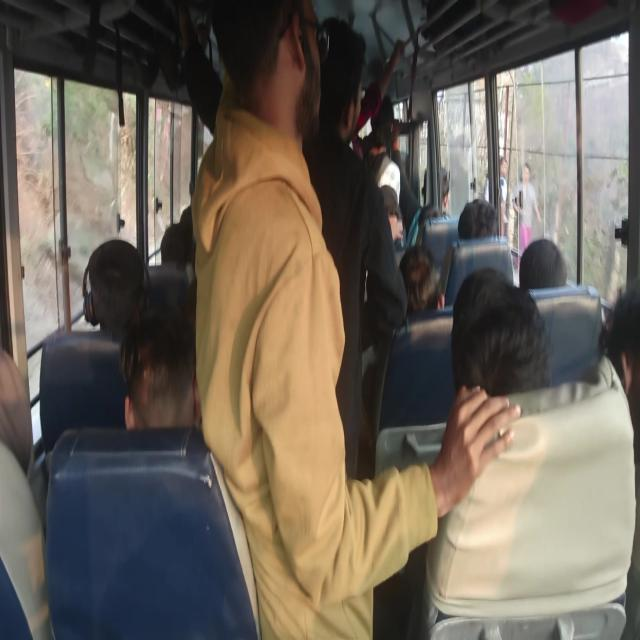person: (223, 0, 339, 156), (460, 289, 566, 450), (132, 308, 210, 436), (314, 12, 367, 154), (604, 303, 640, 500), (0, 354, 59, 452), (92, 249, 150, 341), (528, 242, 592, 318), (404, 258, 446, 330), (372, 55, 397, 138), (478, 205, 507, 255), (386, 197, 411, 253), (159, 212, 190, 255), (431, 154, 459, 200)
